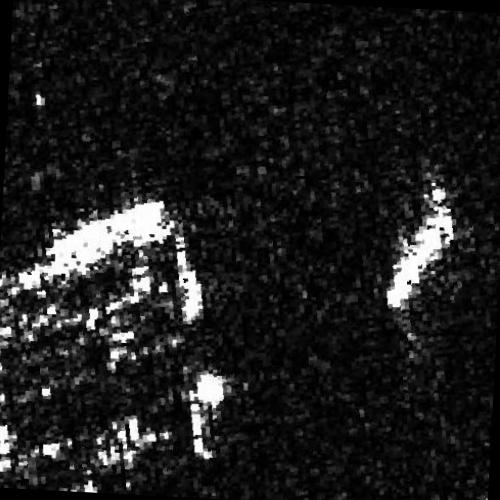ship: (39, 196, 168, 281), (384, 204, 456, 312)
